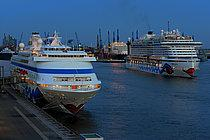Ship: (7, 31, 107, 117), (124, 26, 209, 82)
